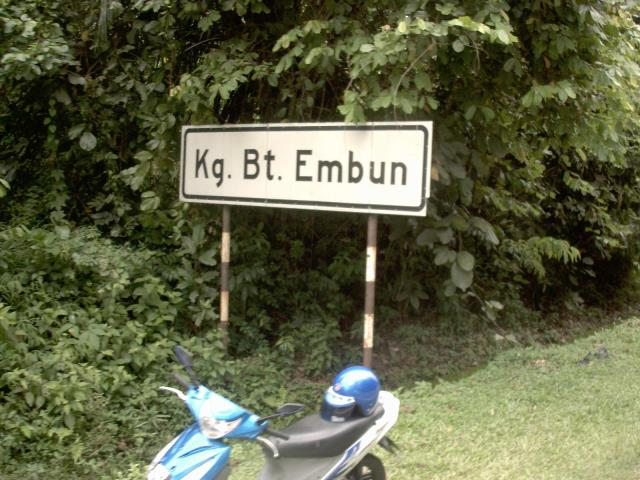ads_sign: (164, 99, 452, 241)
